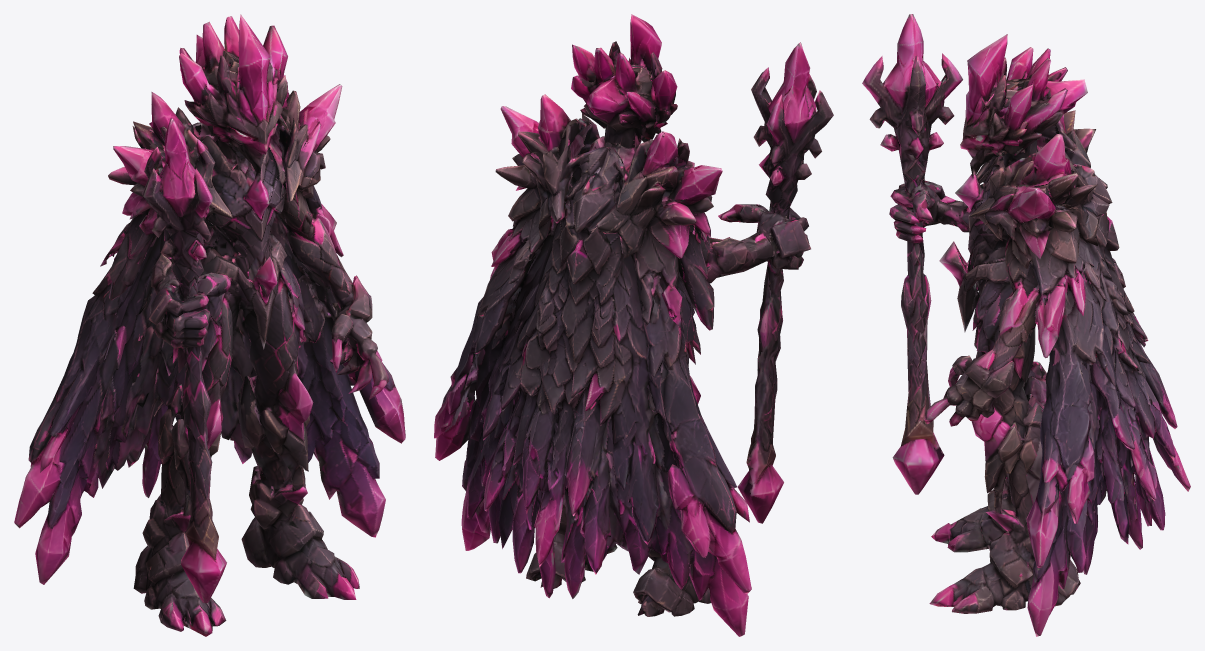
The picture shows the model from 3 angles, left to right: view 1: azimuth 30°, elevation 25°; view 2: azimuth 150°, elevation 25°; view 3: azimuth 270°, elevation 25°; orthographic projection. The views are drawn at different scales.
Parts seen in each view (by area): view 1: texture_mapping; view 2: texture_mapping; view 3: texture_mapping.
Boxes of the visible parts, left/top/right/bottom form: texture_mapping: left=14, top=14, right=405, bottom=636; texture_mapping: left=434, top=14, right=833, bottom=636; texture_mapping: left=862, top=14, right=1190, bottom=636.
Bounding box in the file's own units: 0.6489 × 1 × 0.5545.
Materials: 1 (1 with a texture image).
